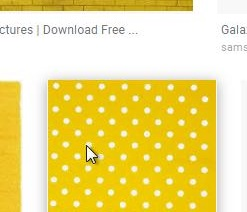cursor: (85, 143, 99, 165)
